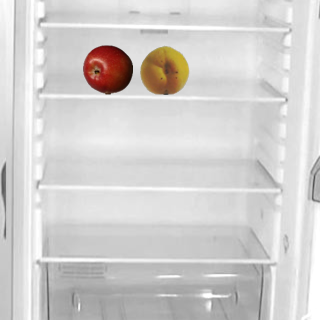Apple Braeburn: (82, 44, 132, 94)
Peach 2: (139, 44, 189, 94)
